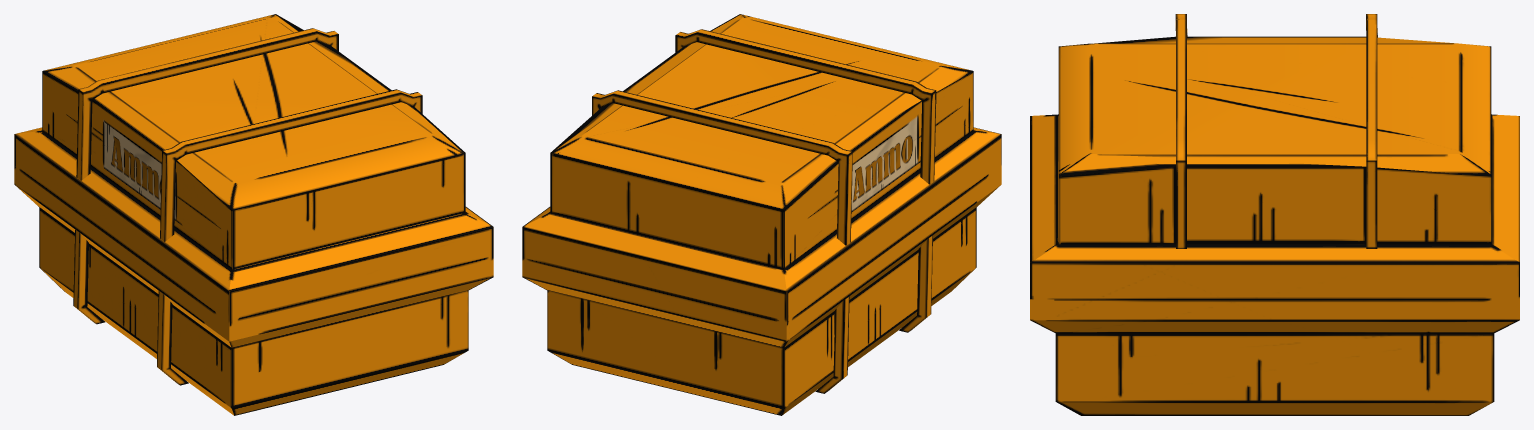
The model's file is ammopack.fbx.
3 renders of one model, left to right at view 1: azimuth 30°, elevation 25°; view 2: azimuth 150°, elevation 25°; view 3: azimuth 270°, elevation 25°, orthographic. The views are drawn at different scales.
Visible parts, largest first — view 1: ammopack1; view 2: ammopack1; view 3: ammopack1.
Boxes of the visible parts, x1=… form: ammopack1: x1=14, y1=14, x2=493, y2=415; ammopack1: x1=522, y1=14, x2=1001, y2=415; ammopack1: x1=1030, y1=14, x2=1519, y2=415.
Bounding box in the file's own units: 0.9066 × 0.7976 × 1.28.
